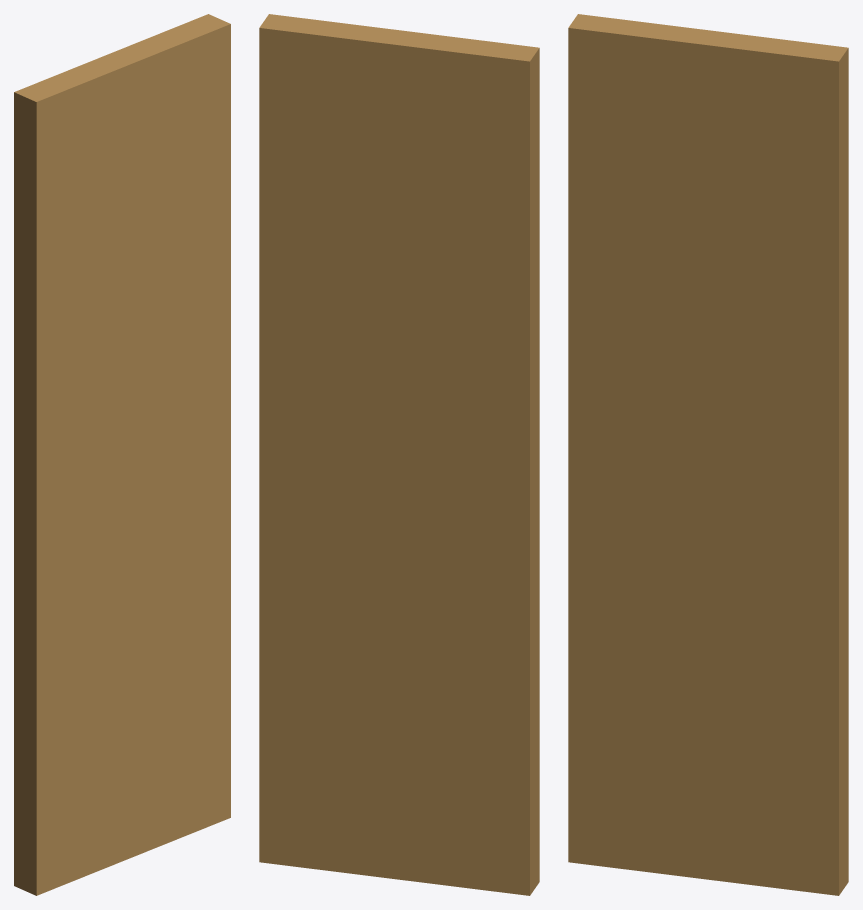
The picture shows the model from 3 angles, left to right: view 1: azimuth 30°, elevation 25°; view 2: azimuth 150°, elevation 25°; view 3: azimuth 330°, elevation 25°; orthographic projection. The views are drawn at different scales.
Visible parts, largest first — view 1: FF-W042; view 2: FF-W042; view 3: FF-W042.
Part boxes in pixels (bbox=[...]): FF-W042: bbox=[14, 14, 230, 895]; FF-W042: bbox=[259, 14, 539, 895]; FF-W042: bbox=[568, 14, 848, 895].
Size of the model in its own units: 0.7419 by 2.42 by 0.2616.
